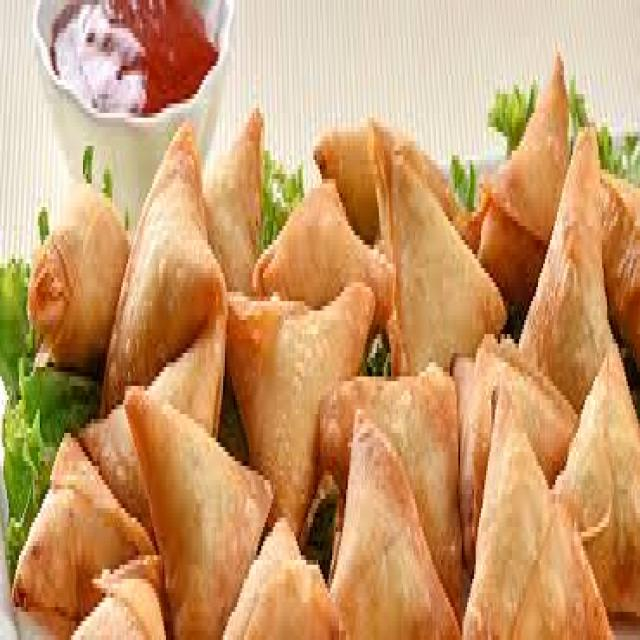SAMOSA: (460, 371, 611, 635), (227, 280, 376, 538), (103, 117, 227, 419), (318, 377, 465, 629), (371, 118, 511, 378), (125, 397, 273, 635), (461, 57, 572, 344), (332, 408, 462, 635), (11, 441, 162, 623), (521, 117, 614, 407), (556, 344, 638, 621), (249, 175, 394, 324), (313, 120, 467, 250), (24, 190, 130, 355), (223, 509, 348, 635), (140, 289, 234, 447), (206, 104, 262, 297), (84, 405, 153, 530)
